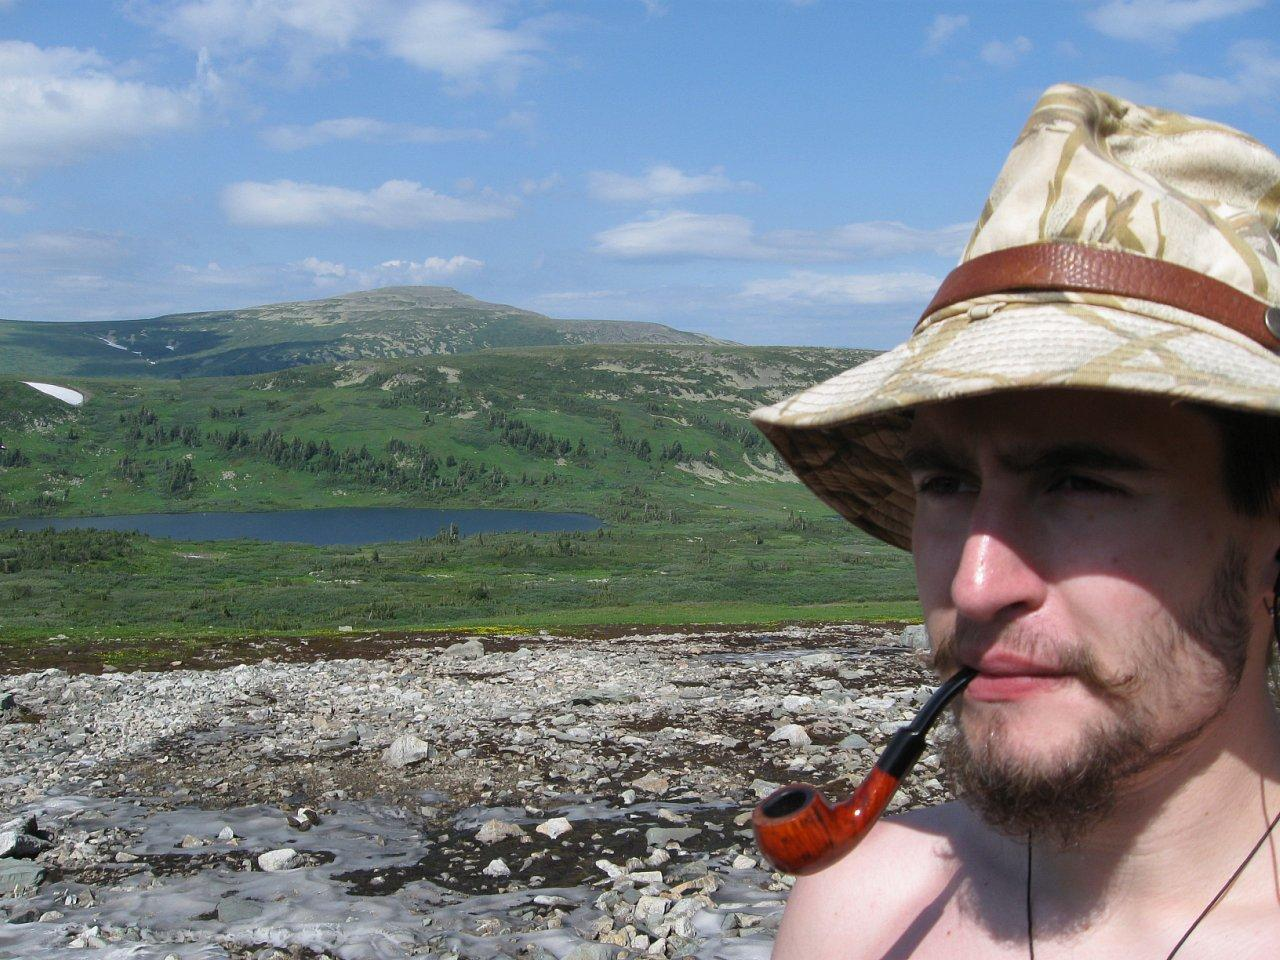trubka: (753, 667, 976, 872)
